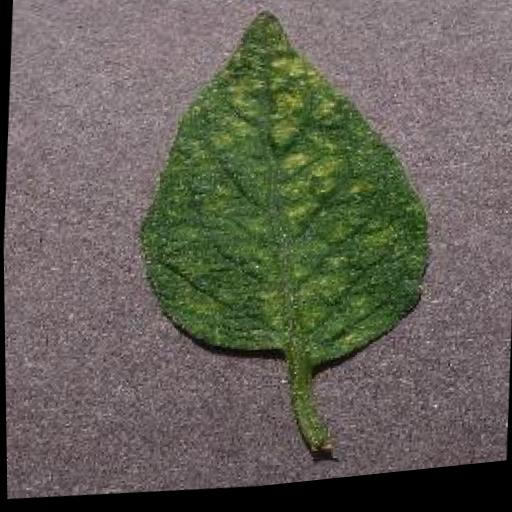Spider Mites: (135, 0, 439, 390)
